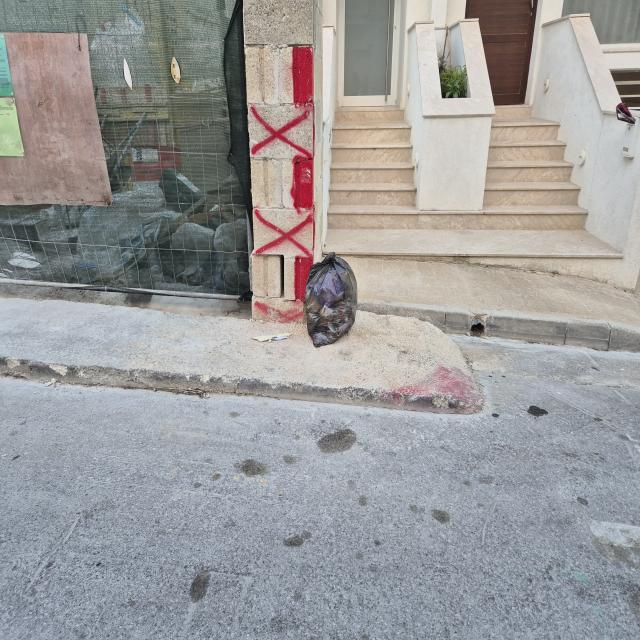black_bag: (304, 246, 367, 347)
